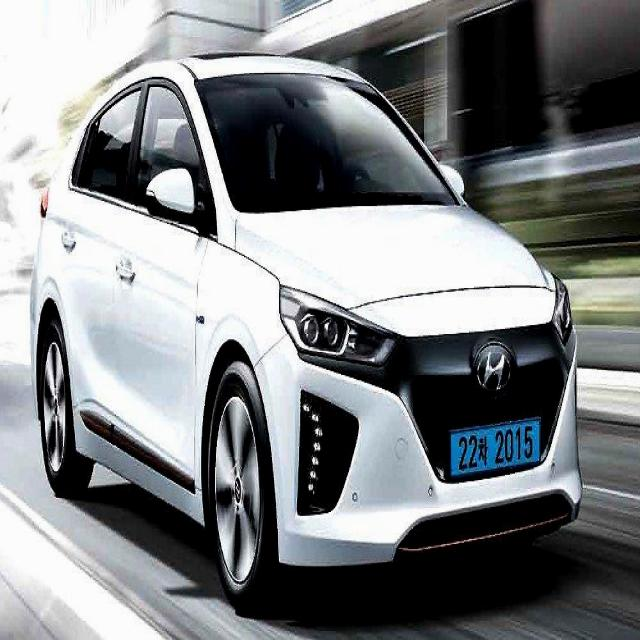EV_plate: (453, 414, 545, 483)
car: (32, 50, 585, 607)
